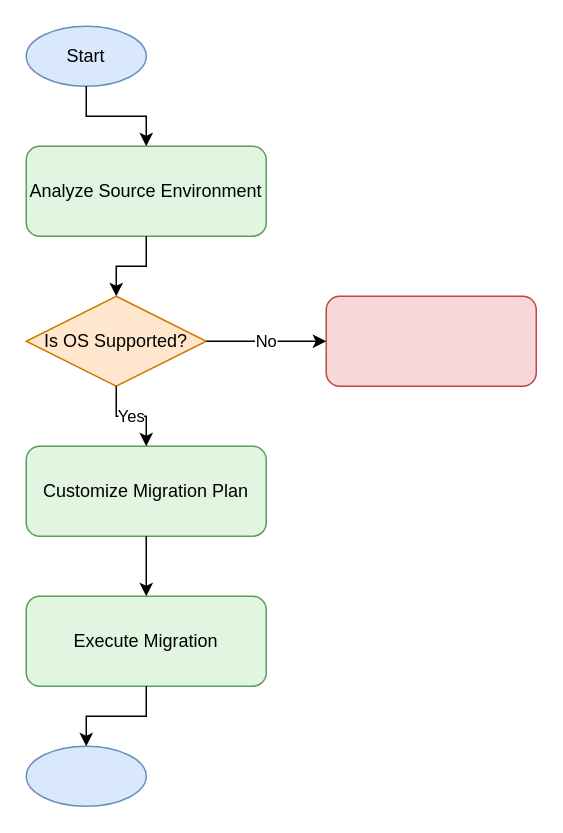
This 563x833 diagram has some shape labels left out. Here are the shapes that lost their labels. From the top down, the centre of each, then its label:
At [430,340]: "Unsupported OS".
At [85,775]: "End".
